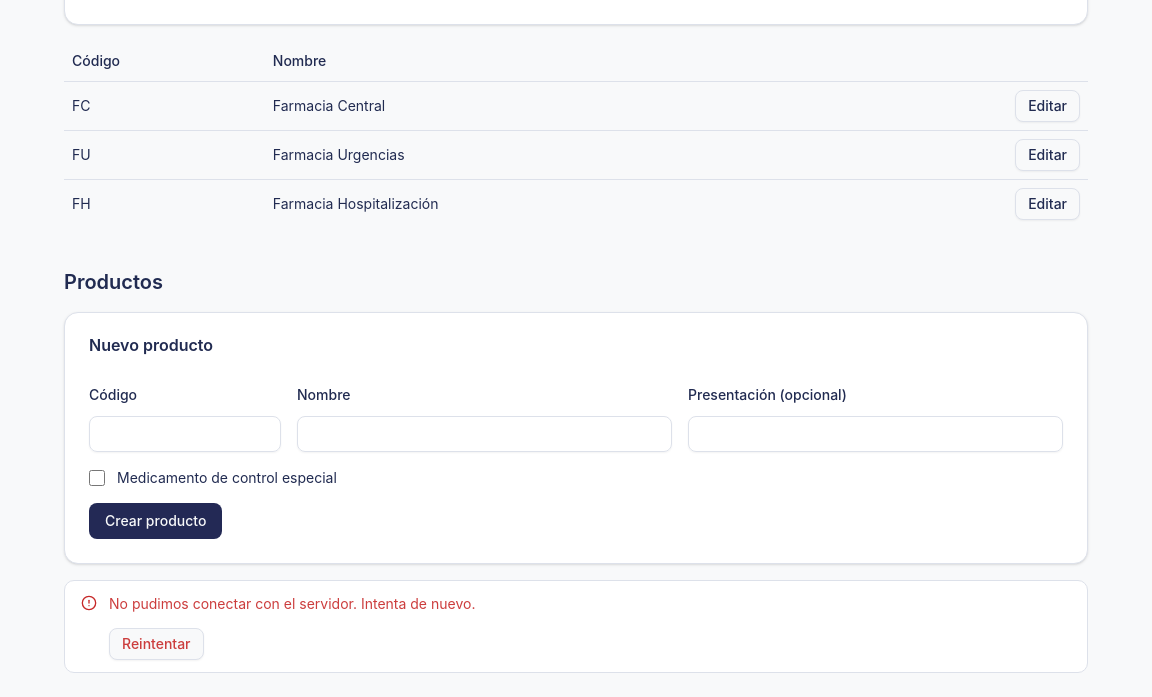
Test: Lista de bodegas y productos › Falla solo una sección: productos con alerta de red y "Reintentar", bodegas con sus 3 filas
(page scrolled)
Check: the message shows "No pudimos conectar con el servidor. Intenta de nuevo.", box [109,595,475,612]
Check: the table named "Bodegas registradas" is shown, box [64,41,1088,228]
Click the button "Reintentar": (156, 644) [109,628,204,660]
(page scrolled)
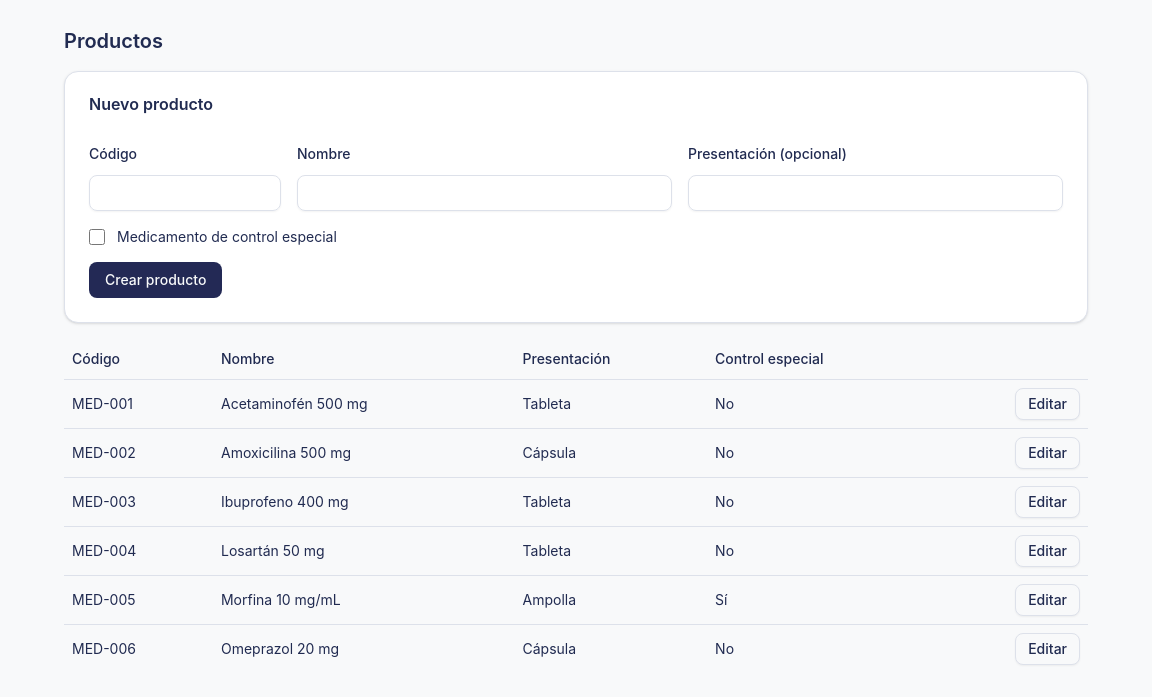
Check: the table named "Productos registrados" is shown, box [64,339,1088,673]
